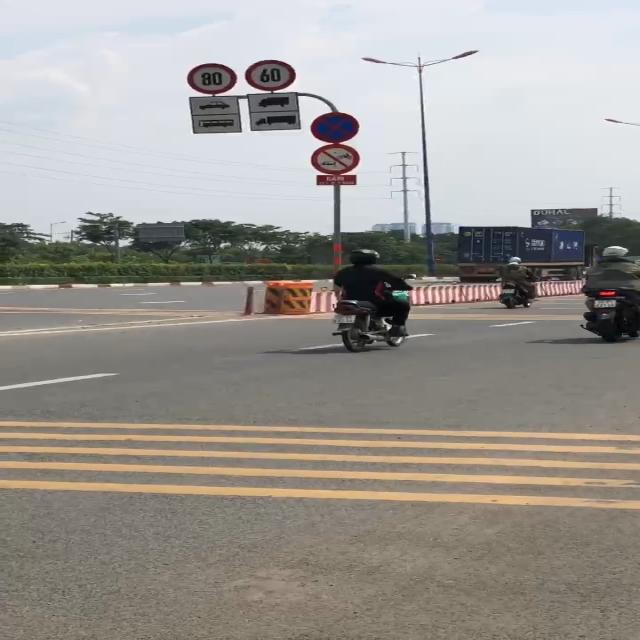Bien bao cam dung xe va do xe: (305, 110, 370, 144)
Bien bao toc do toi da cho phep: (242, 58, 304, 92), (183, 61, 240, 97)
